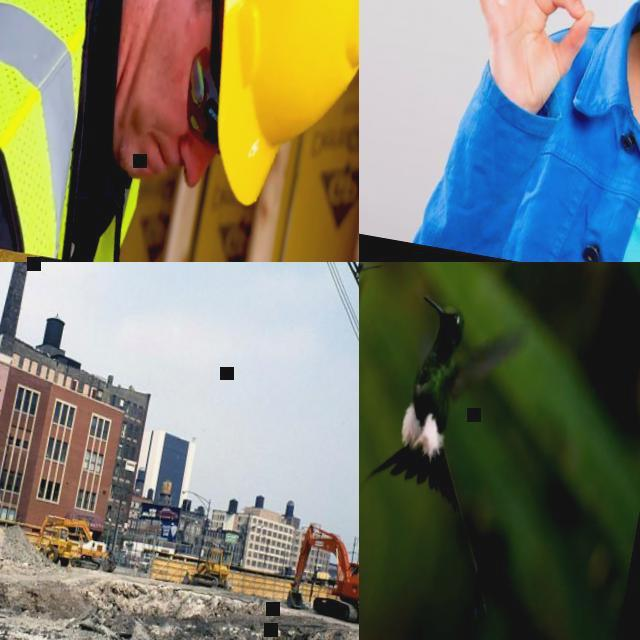helmet: (176, 0, 359, 224)
machinery: (284, 523, 359, 627), (33, 512, 123, 573), (182, 542, 238, 592), (38, 522, 77, 566)
no_mask: (107, 0, 218, 187)
no_vest: (502, 3, 640, 262)
person: (0, 0, 359, 262), (417, 0, 640, 262)
vest: (0, 0, 187, 262)
